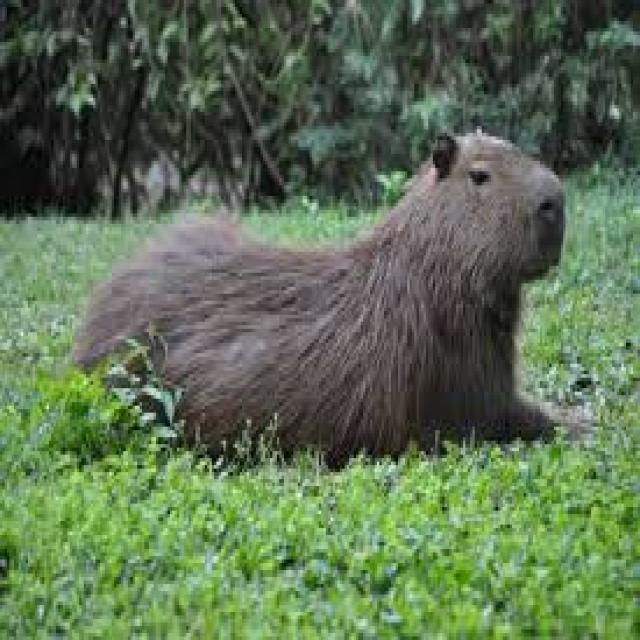capy: (70, 130, 569, 457)
